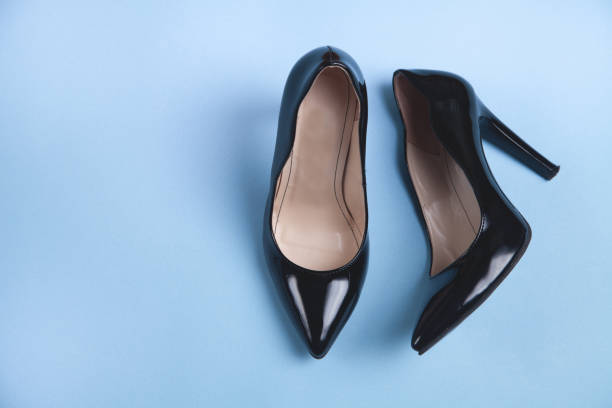Footwear: (389, 54, 563, 355), (255, 37, 378, 366)
